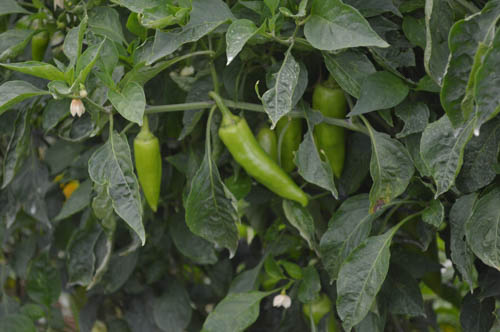ChiliPepper: (222, 119, 306, 206), (308, 85, 343, 180), (135, 136, 164, 216), (276, 108, 304, 176), (256, 125, 277, 165)
